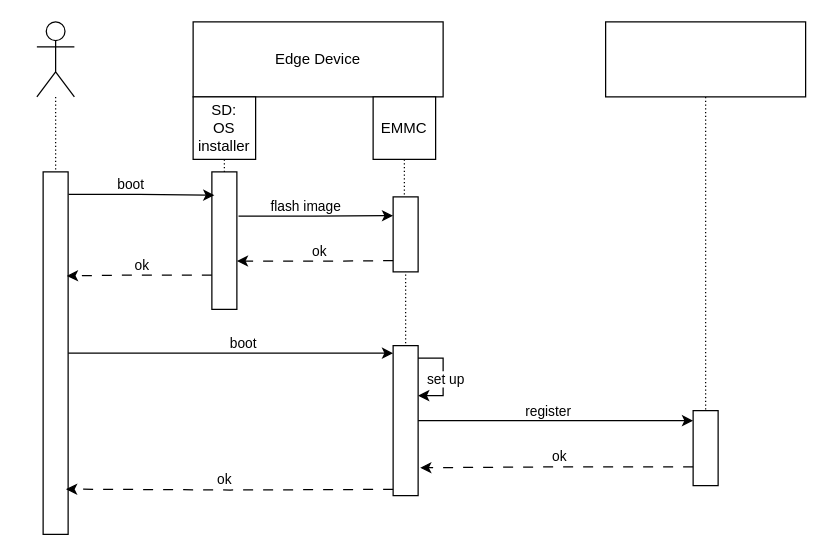
Some shapes in this 828 by 556 pixel diagram are drawn without their labels. The centre of each missing label's shape, as x and y in pixels:
"Appstore" belongs at (705,59).
"Developer" belongs at (55,59).
